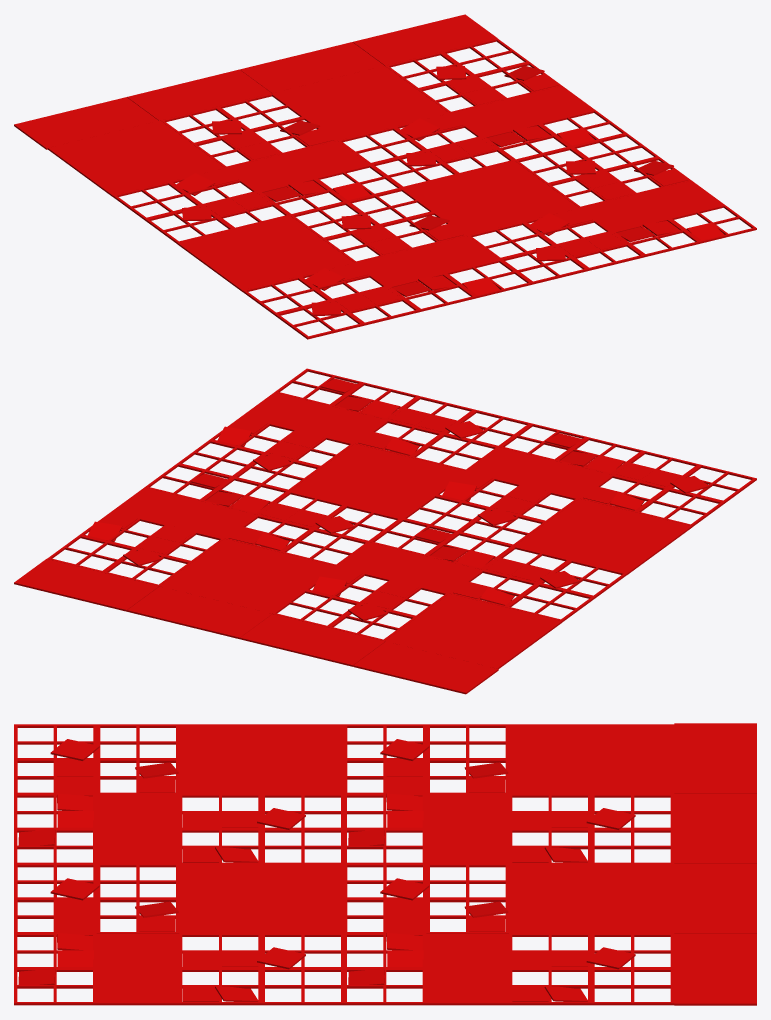
File: Shop_03_DropCeiling_01.fbx
3 renders of one model, top to bottom at view 1: azimuth 30°, elevation 25°; view 2: azimuth 150°, elevation 25°; view 3: azimuth 270°, elevation 25°, orthographic. The views are drawn at different scales.
Visible parts, largest first — view 1: Shop_03_DropCeiling_01; view 2: Shop_03_DropCeiling_01; view 3: Shop_03_DropCeiling_01.
Boxes of the visible parts, left/top/right/bottom form: Shop_03_DropCeiling_01: left=14, top=14, right=756, bottom=339; Shop_03_DropCeiling_01: left=14, top=368, right=756, bottom=694; Shop_03_DropCeiling_01: left=14, top=723, right=756, bottom=1005.
Size of the model in its own units: 1203 by 15.95 by 1349.
